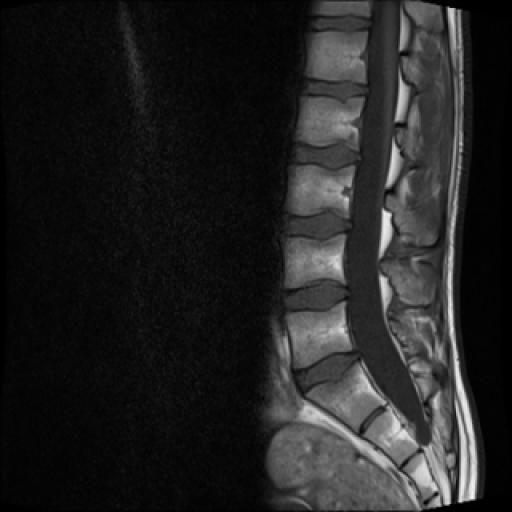L1: (308, 31, 366, 82)
L2: (296, 97, 364, 148)
L3: (286, 165, 354, 218)
L4: (284, 234, 346, 288)
L5: (287, 301, 354, 368)
S1: (305, 362, 386, 432)
